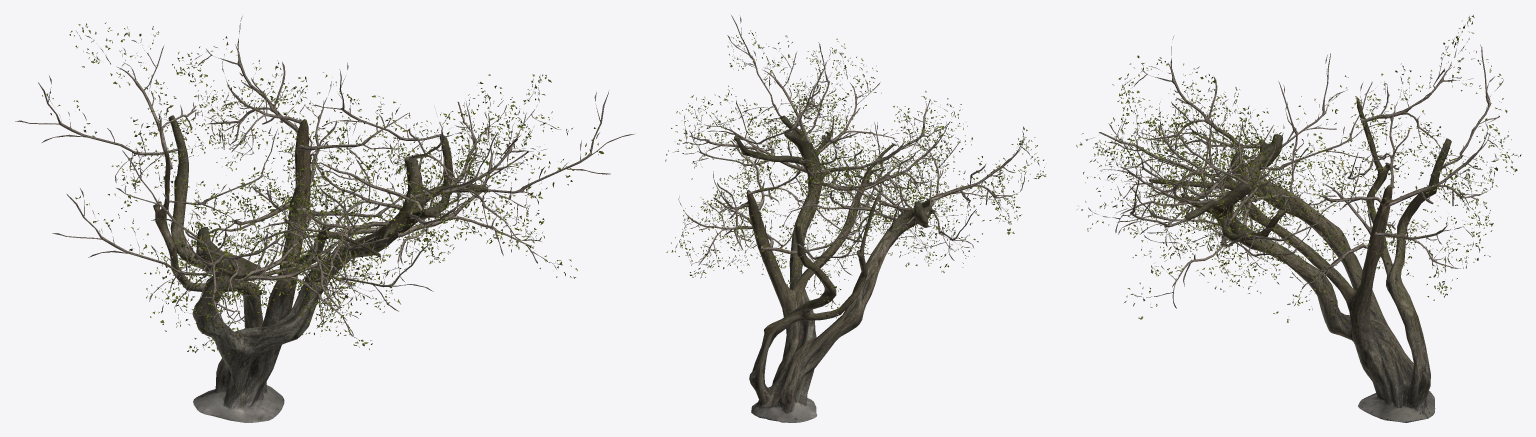
The model's file is island_tree_02.glb.
3 views of the same model, side by side, from view 1: azimuth 30°, elevation 25°; view 2: azimuth 150°, elevation 25°; view 3: azimuth 270°, elevation 25° (orthographic). The views are drawn at different scales.
Parts seen in each view (by area): view 1: island_tree_02_LOD0; view 2: island_tree_02_LOD0; view 3: island_tree_02_LOD0.
Boxes of the visible parts, left/top/right/bottom form: island_tree_02_LOD0: left=15, top=16, right=635, bottom=422; island_tree_02_LOD0: left=665, top=15, right=1045, bottom=422; island_tree_02_LOD0: left=1076, top=15, right=1521, bottom=422.
Bounding box in the file's own units: 4.21 × 3.36 × 4.01.
Materials: 3 (3 with a texture image).
